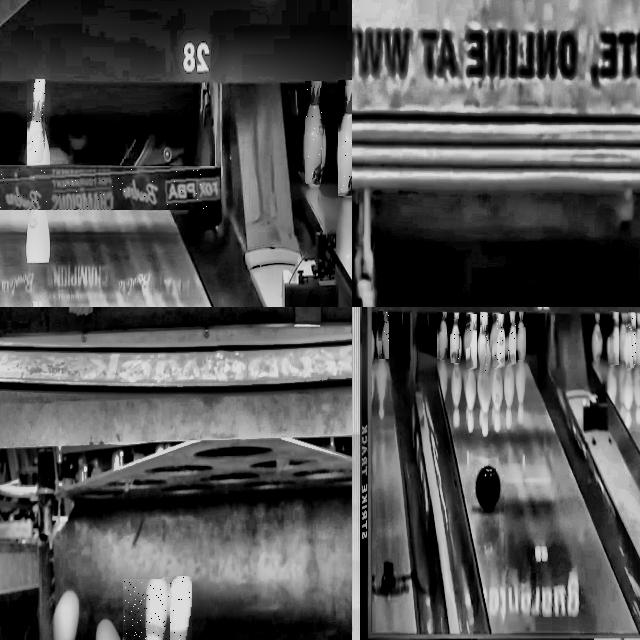bowling-ball: (476, 465, 500, 510)
bowling-pins: (305, 81, 323, 184), (166, 577, 191, 640), (145, 580, 168, 640), (340, 81, 352, 194), (29, 80, 45, 161), (592, 312, 603, 362), (495, 314, 505, 365), (450, 313, 460, 361), (480, 312, 488, 371), (516, 313, 526, 359), (618, 313, 627, 361), (507, 312, 515, 363), (629, 313, 636, 368), (469, 314, 476, 367), (611, 312, 618, 364), (381, 312, 388, 359), (634, 312, 640, 366), (439, 312, 446, 357)
sweep board: (0, 166, 220, 209)
